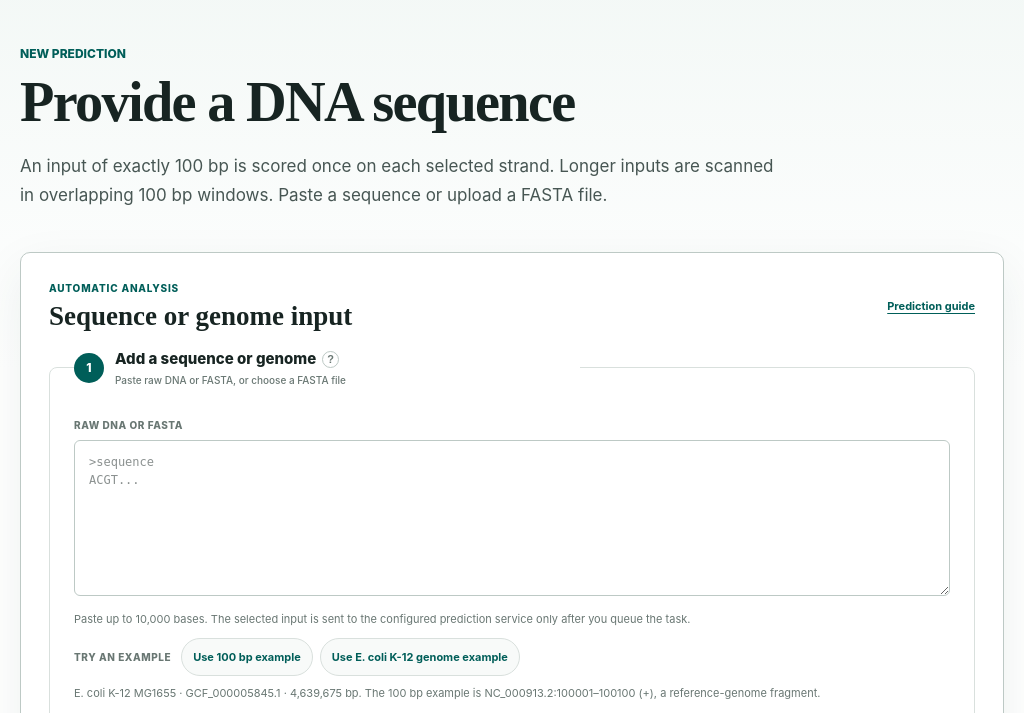
Scenario: prototype prediction workbench › shows Turnstile only after the prediction inputs are ready
Expected: the field labelled "Human verification" is not shown
Click the button "Use 100 bp example".
click(247, 657)  # box [181,638,313,676]
(page scrolled)
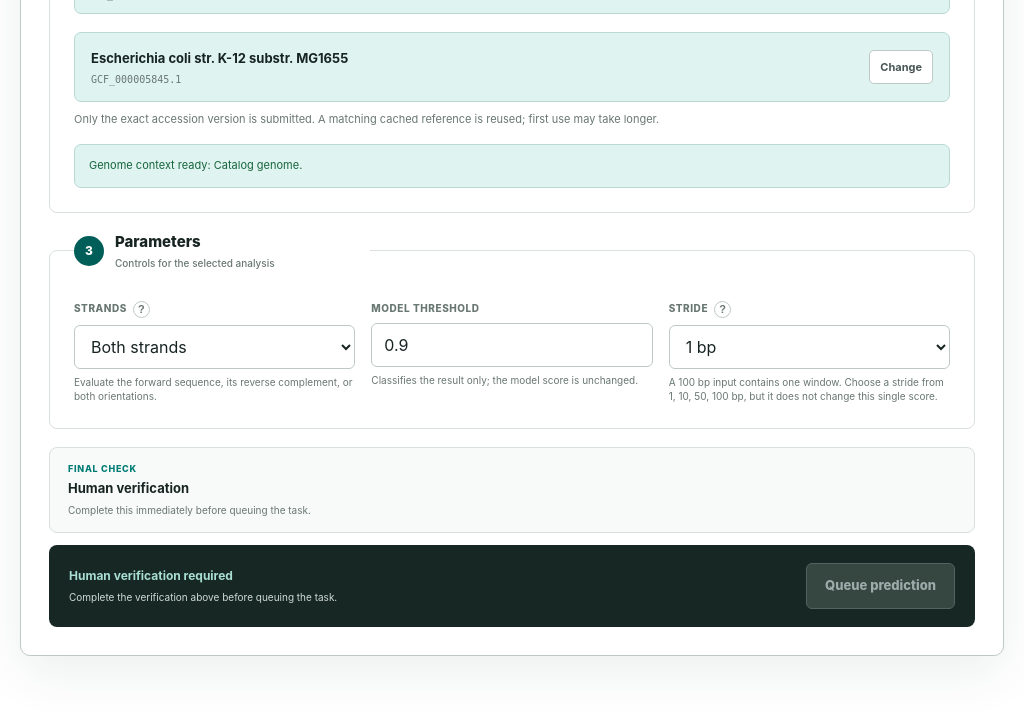
Expected: the button "Queue prediction" is disabled, [806,563,955,609]
Expected: the text "Complete this immediately before queuing the task." is shown, [68,503,311,518]
